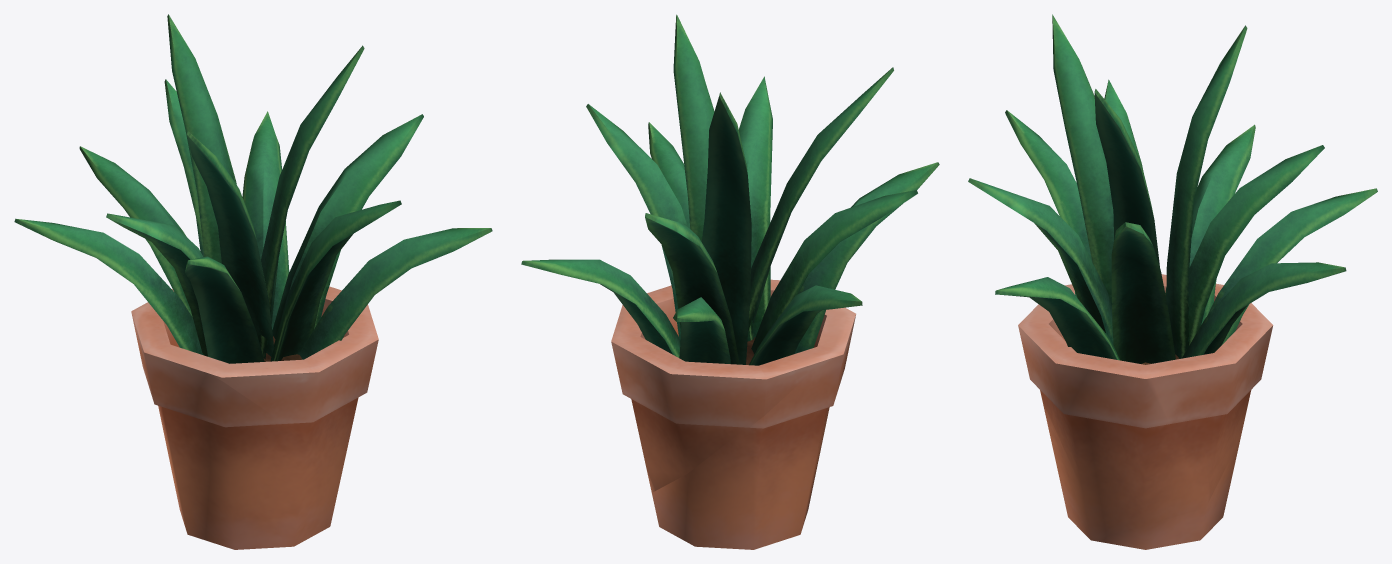
The model's file is plante2_shatter.fbx.
3 views of the same model, side by side, from view 1: azimuth 30°, elevation 25°; view 2: azimuth 150°, elevation 25°; view 3: azimuth 270°, elevation 25° (orthographic).
Visible parts, largest first — view 1: plante, Pieces_3, Pieces_1, Pieces_2, Pieces_1_2; view 2: plante, Pieces_3, Pieces_2, Pieces_1, Pieces_1_2; view 3: plante, Pieces_1, Pieces_2, Pieces_3, Pieces_1_2.
Part boxes in pixels (x1,y1,x2,y2): plante: [14, 14, 492, 363]; Pieces_3: [140, 342, 341, 549]; Pieces_1: [207, 304, 378, 472]; Pieces_2: [131, 288, 192, 359]; Pieces_1_2: [179, 286, 341, 372]; plante: [521, 14, 939, 365]; Pieces_3: [652, 318, 855, 549]; Pieces_2: [611, 320, 842, 490]; Pieces_1: [647, 279, 855, 347]; Pieces_1_2: [617, 305, 853, 492]; plante: [968, 14, 1377, 364]; Pieces_1: [1018, 284, 1200, 525]; Pieces_2: [1161, 275, 1273, 498]; Pieces_3: [1042, 274, 1240, 549]; Pieces_1_2: [1141, 359, 1209, 508].
Size of the model in its own units: 40.52 by 53.09 by 41.59.
Materials: 3 (2 with a texture image).
